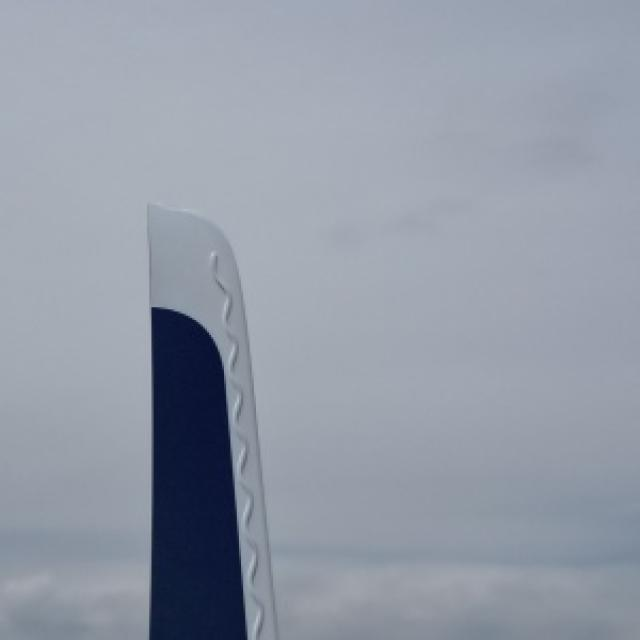healthy: (147, 203, 275, 638)
